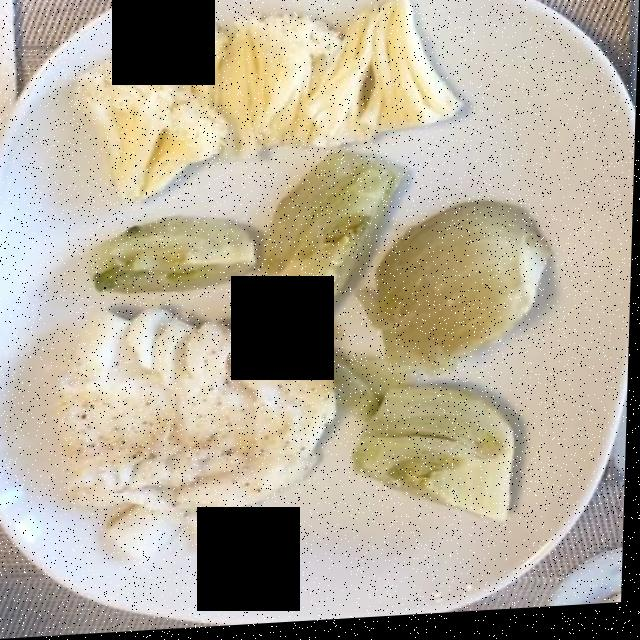cod: (53, 305, 341, 571)
fennel: (68, 149, 585, 564)
tete-de-moine: (87, 14, 517, 207)
